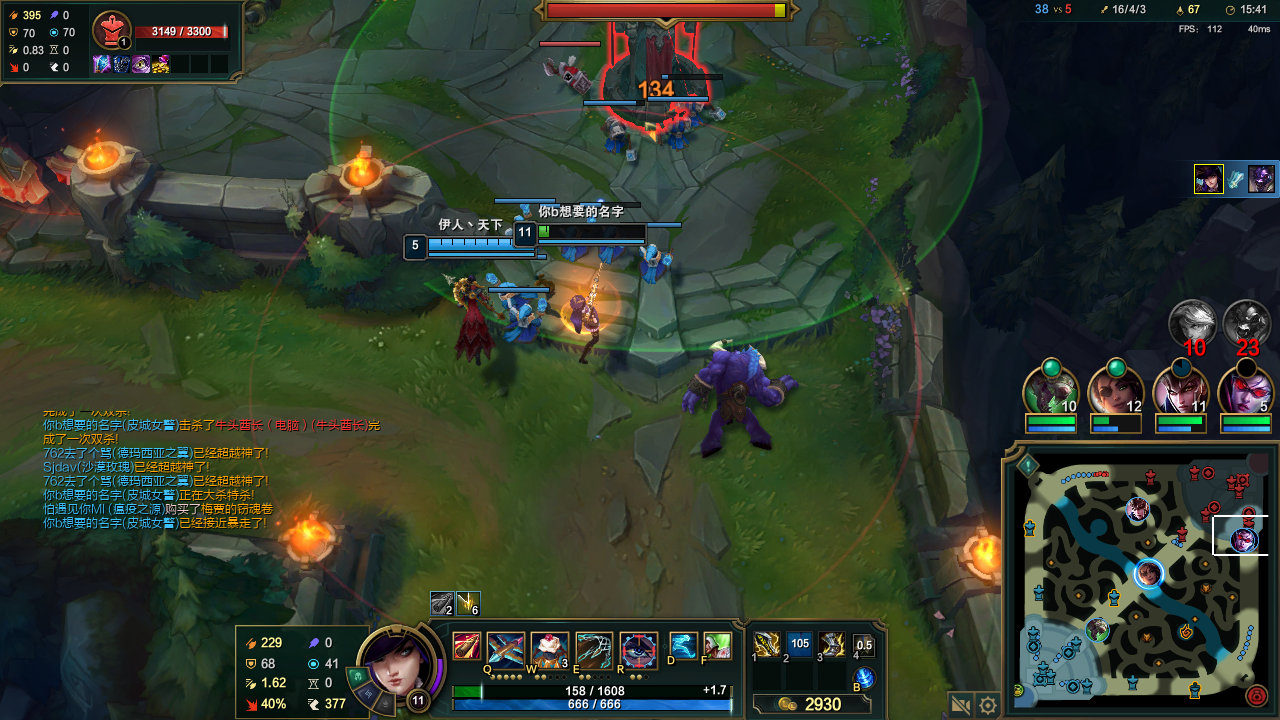DFFYT: (539, 3, 727, 118)
DFXB: (547, 54, 588, 90)
WFXB: (638, 248, 680, 281), (653, 107, 689, 145), (509, 303, 540, 344), (601, 122, 636, 156), (496, 276, 532, 306), (684, 90, 712, 122)
